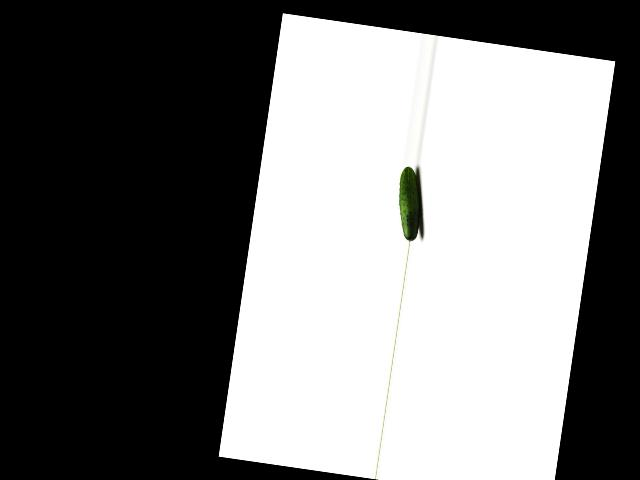cucumber: (391, 166, 427, 243)
